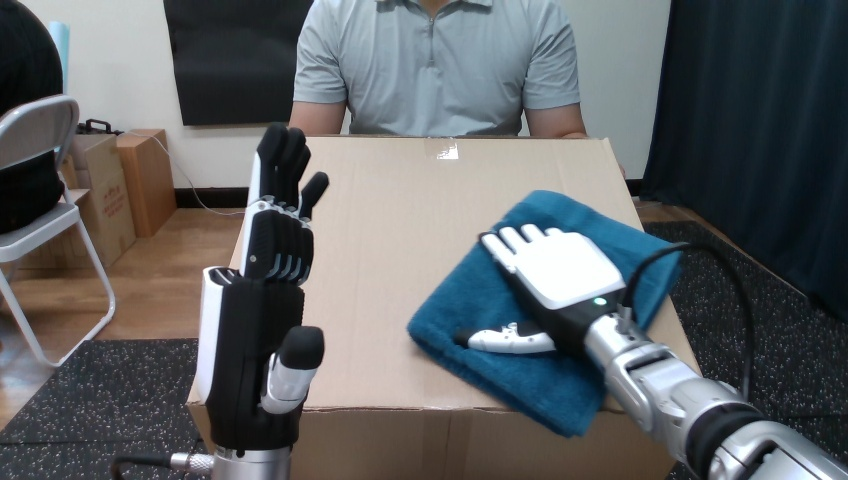left robot hand: (459, 224, 847, 479), (116, 123, 328, 479), (632, 247, 746, 392)
